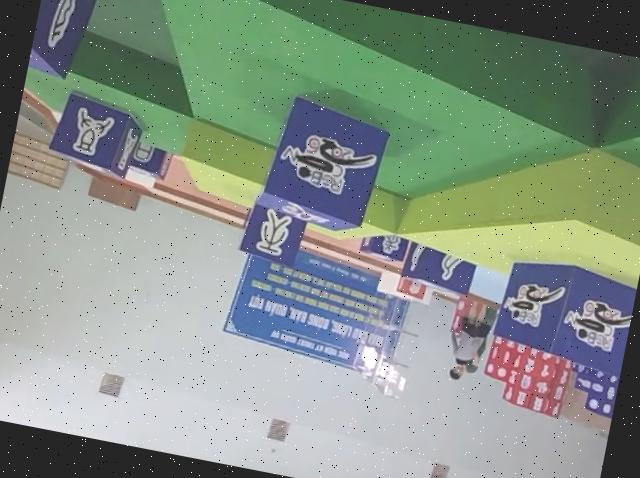R1 Blue: (252, 86, 392, 235), (491, 249, 639, 374)
R2 Fake Blue: (235, 197, 308, 269), (123, 141, 171, 181), (359, 226, 412, 262)
R2 Real Blue: (45, 88, 148, 182), (27, 0, 101, 77), (396, 239, 477, 298)
